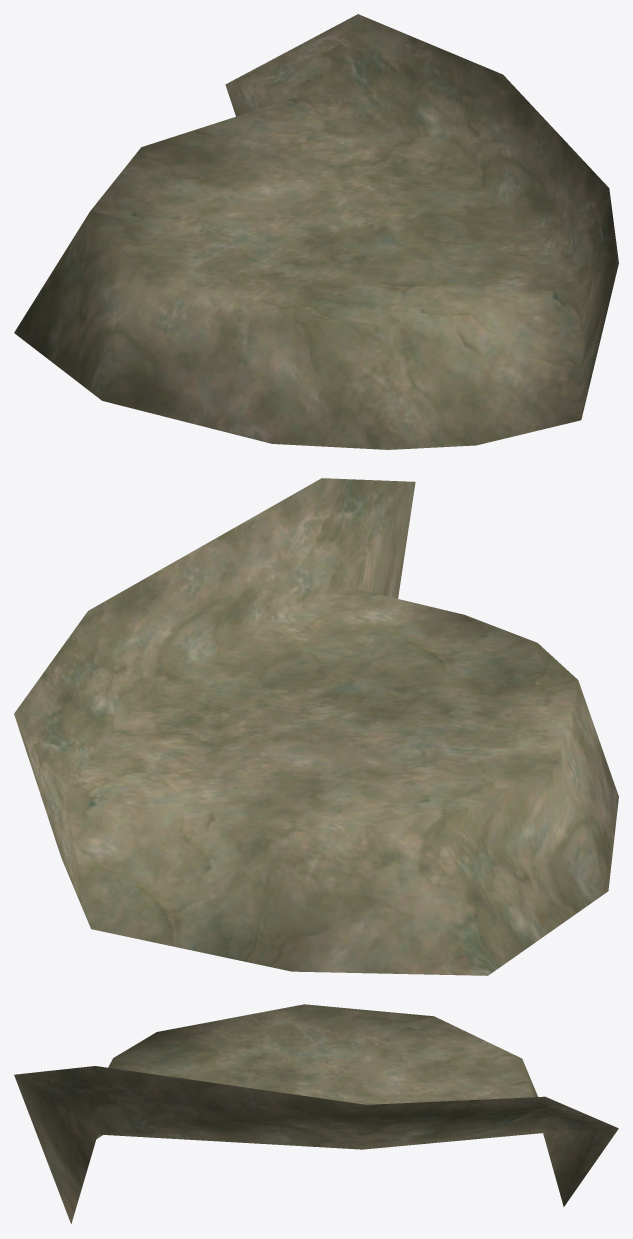
Rendered from EKH_GROTTO_PS_GR_LINE36.fbx.
3 renders of one model, top to bottom at view 1: azimuth 30°, elevation 25°; view 2: azimuth 150°, elevation 25°; view 3: azimuth 270°, elevation 25°, orthographic. The views are drawn at different scales.
Visible parts, largest first — view 1: EKH_GROTTO_PS_GR_LINE36; view 2: EKH_GROTTO_PS_GR_LINE36; view 3: EKH_GROTTO_PS_GR_LINE36.
Part boxes in pixels (left/top/right/bottom): EKH_GROTTO_PS_GR_LINE36: left=14, top=14, right=618, bottom=449; EKH_GROTTO_PS_GR_LINE36: left=14, top=478, right=618, bottom=975; EKH_GROTTO_PS_GR_LINE36: left=14, top=1004, right=618, bottom=1223.
Bounding box in the file's own units: 19073 × 8776 × 26978.
1 material, 1 textured.
